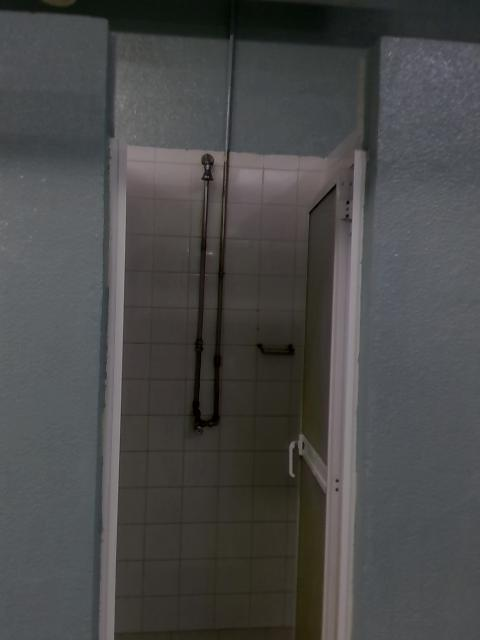open_door: (93, 131, 368, 639)
